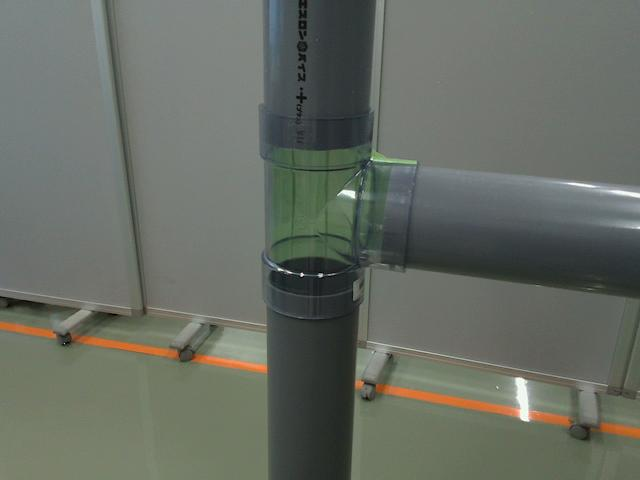junction: (258, 117, 420, 320)
